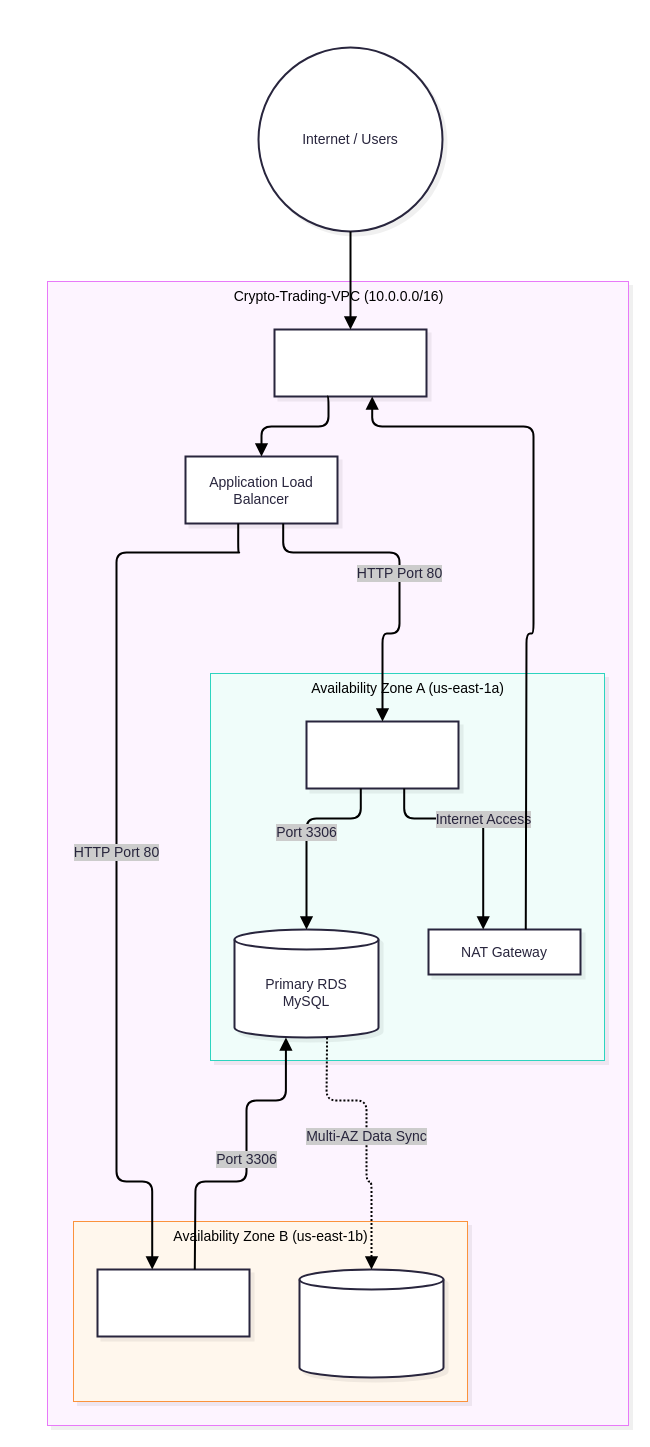
This 650x1447 diagram has some shape labels left out. The centre of each missing label's shape, as x and y in pixels:
Internet Gateway: pixel 352 364
Standby RDS MySQL: pixel 373 1325
Web Server 1 - Auto Scaling: pixel 384 756
Web Server 2 - Auto Scaling: pixel 175 1304
